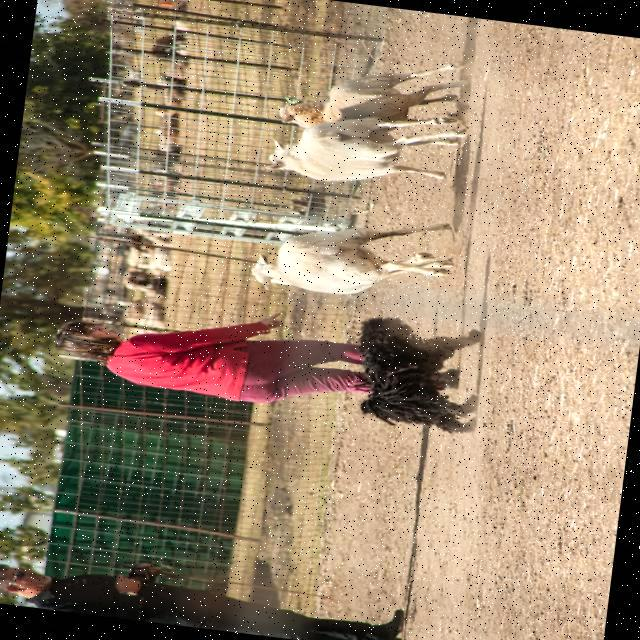sheep: (250, 225, 448, 293), (274, 115, 455, 179), (322, 63, 454, 121)
